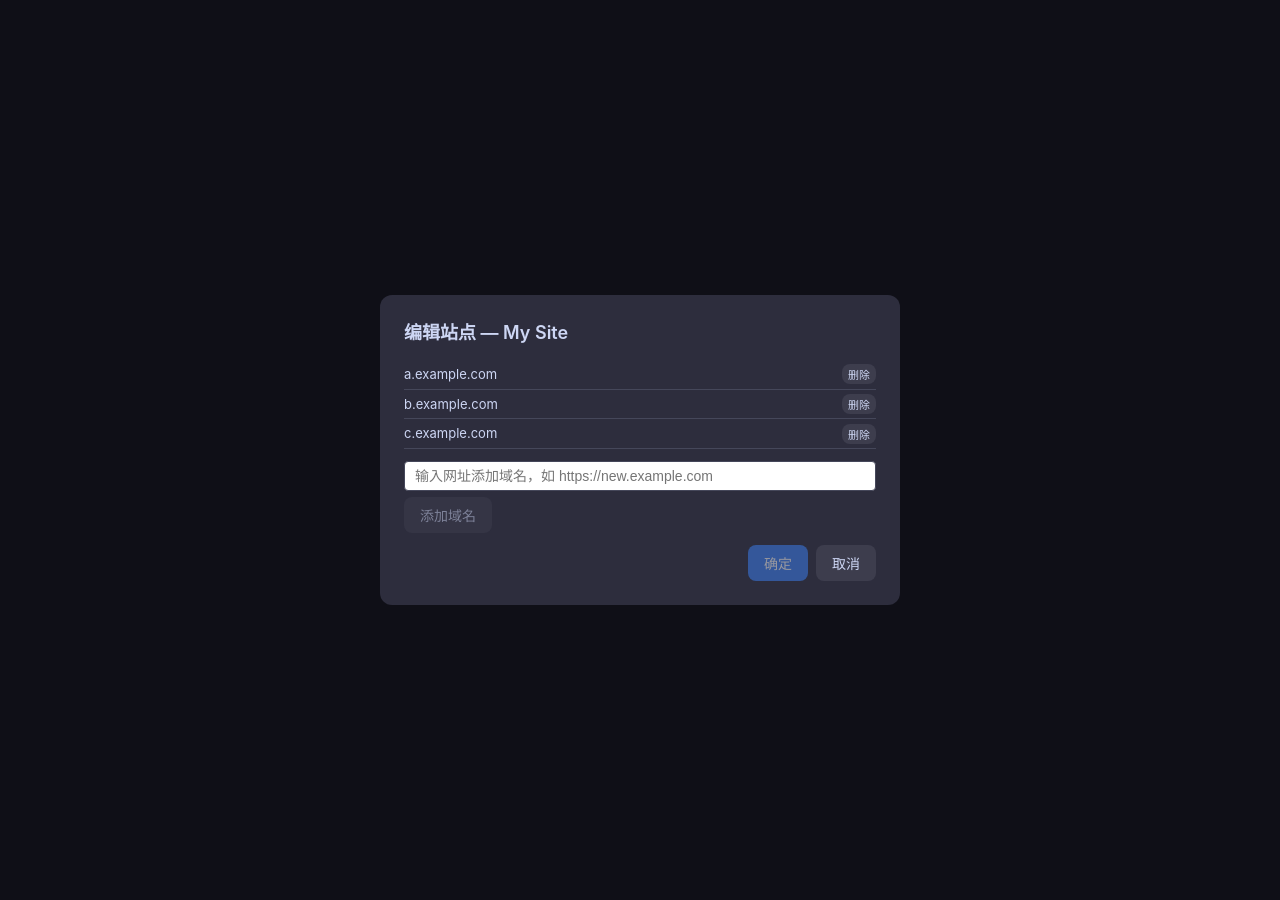
Test: EditSiteDialog › adds domain from URL input with underline style
The image size is (1280, 900).
In the field with placeholder "输入网址添加域名，如 https://new.example.com": [640, 476] box [404,461,876,491], type "https://d.example.com/path"
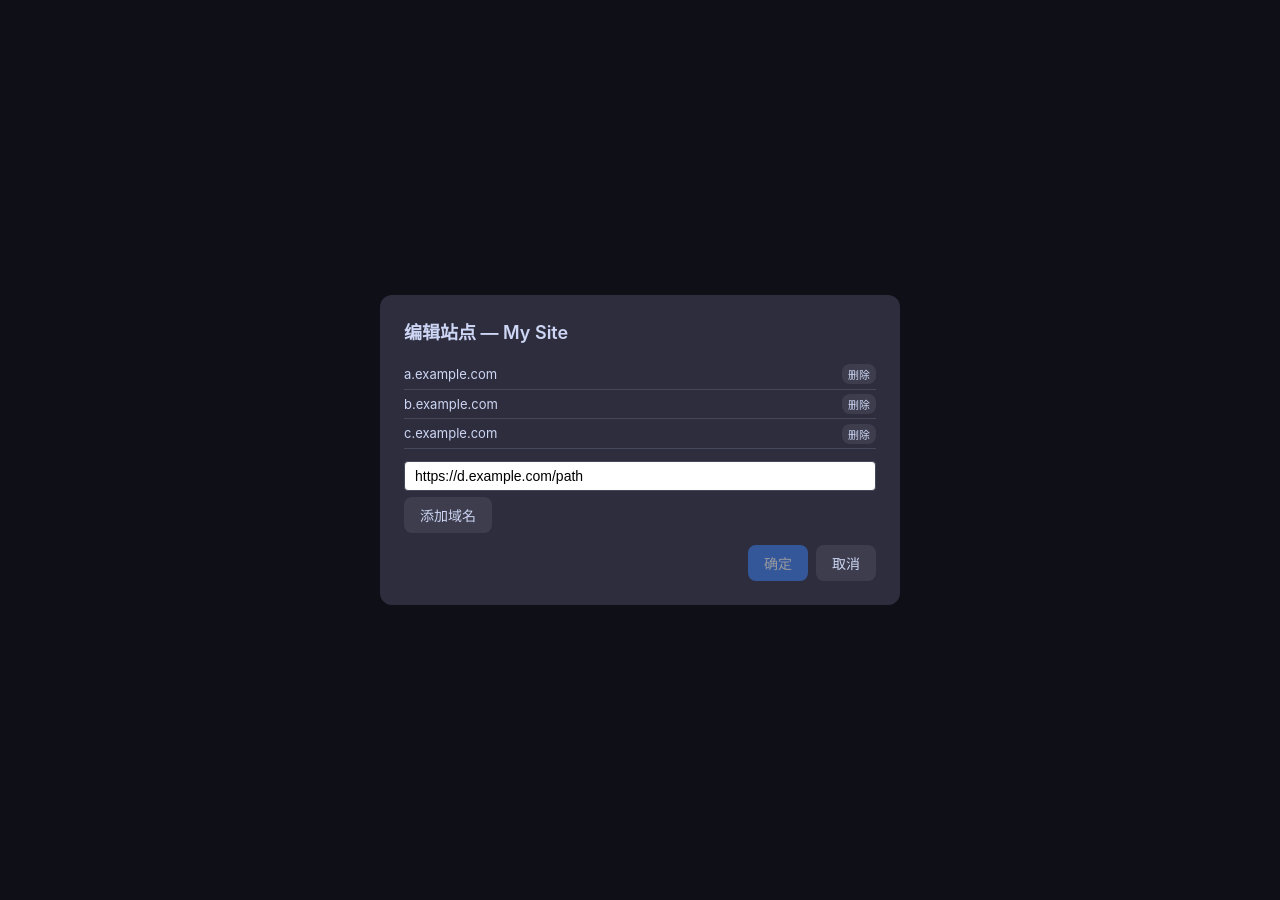
Click the button "添加域名": [448, 515] box [404,497,492,533]
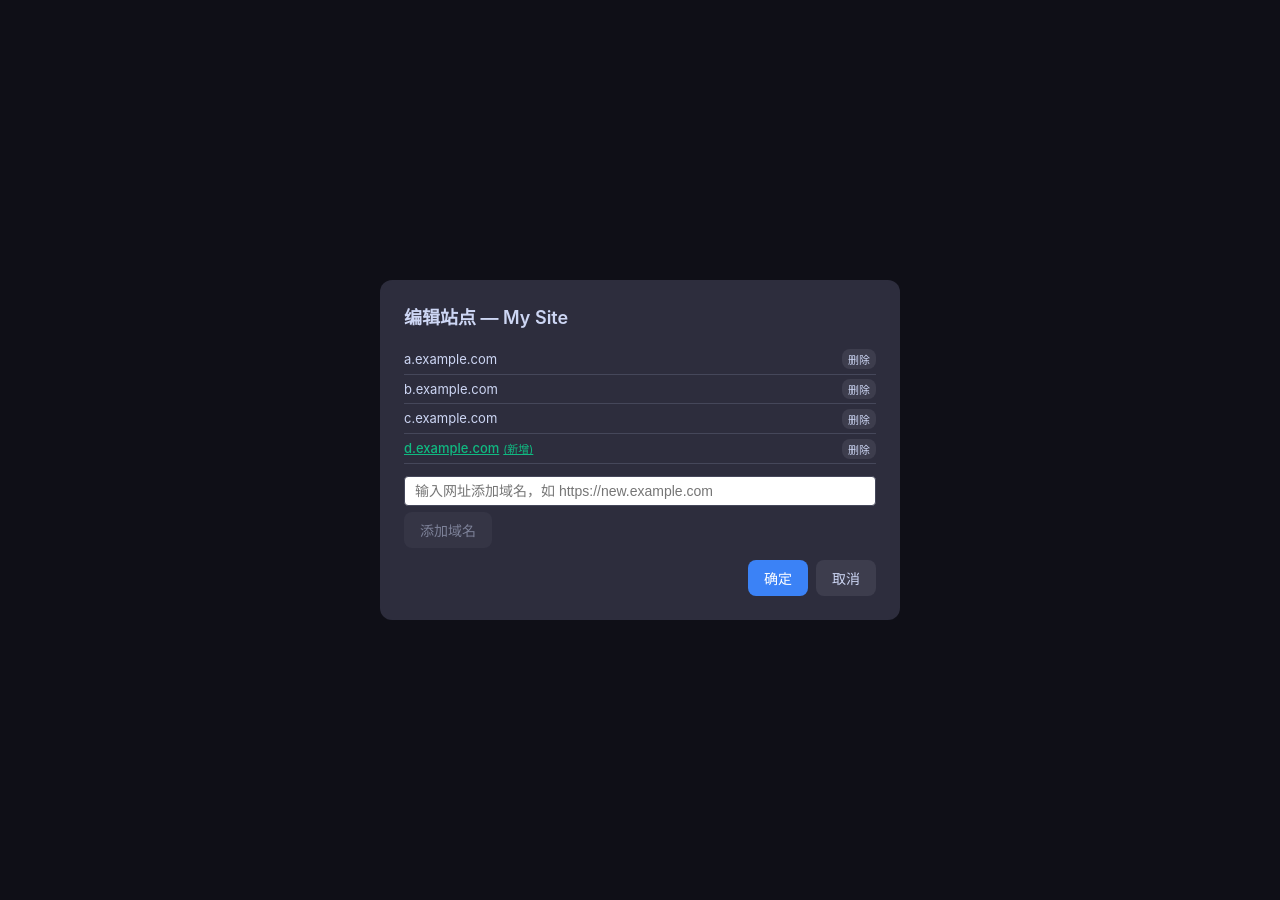
Now the text "d.example.com(新增)" is shown, box [404,438,533,459]
Now the text "(新增)" is shown, box [503,442,533,456]
